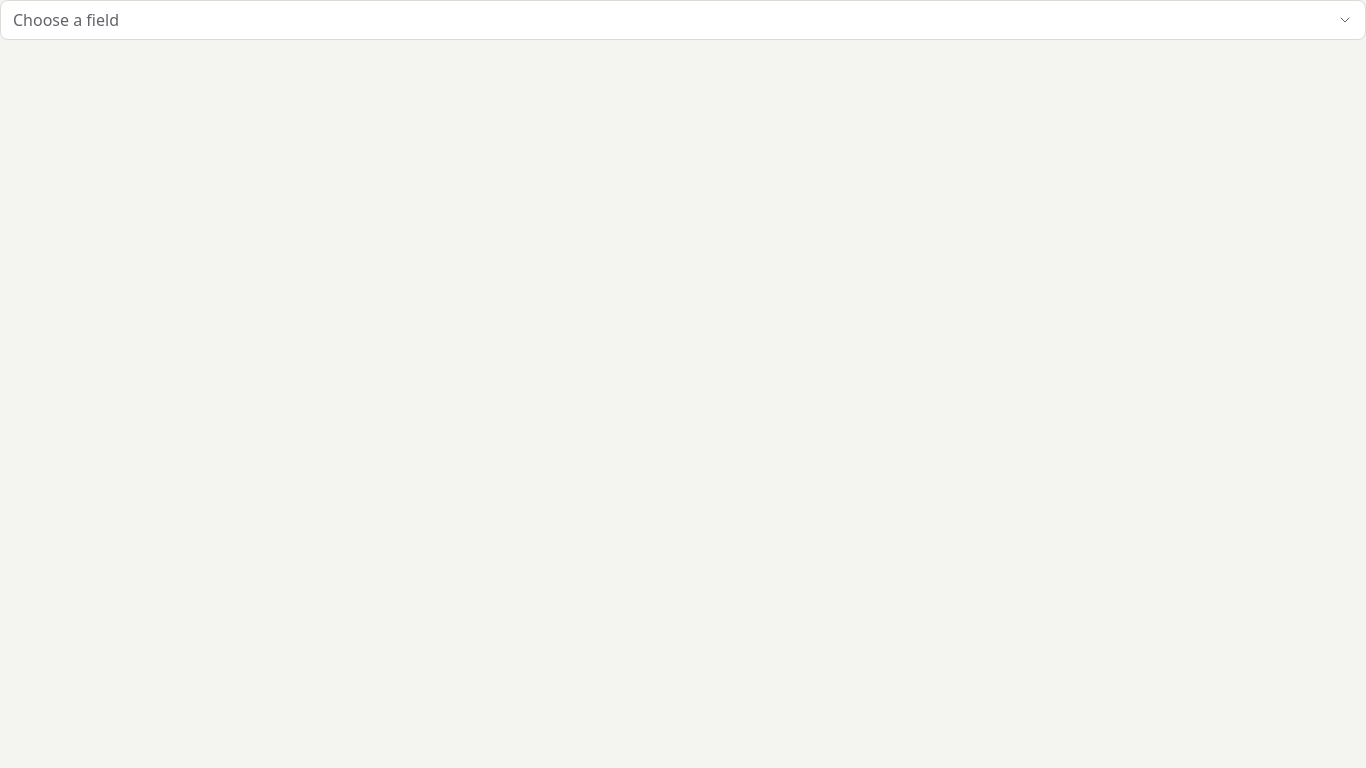
it: FieldPicker › opens from the keyboard, filters as you type, and Enter picks the highlighted field
Step 1. Press Tab
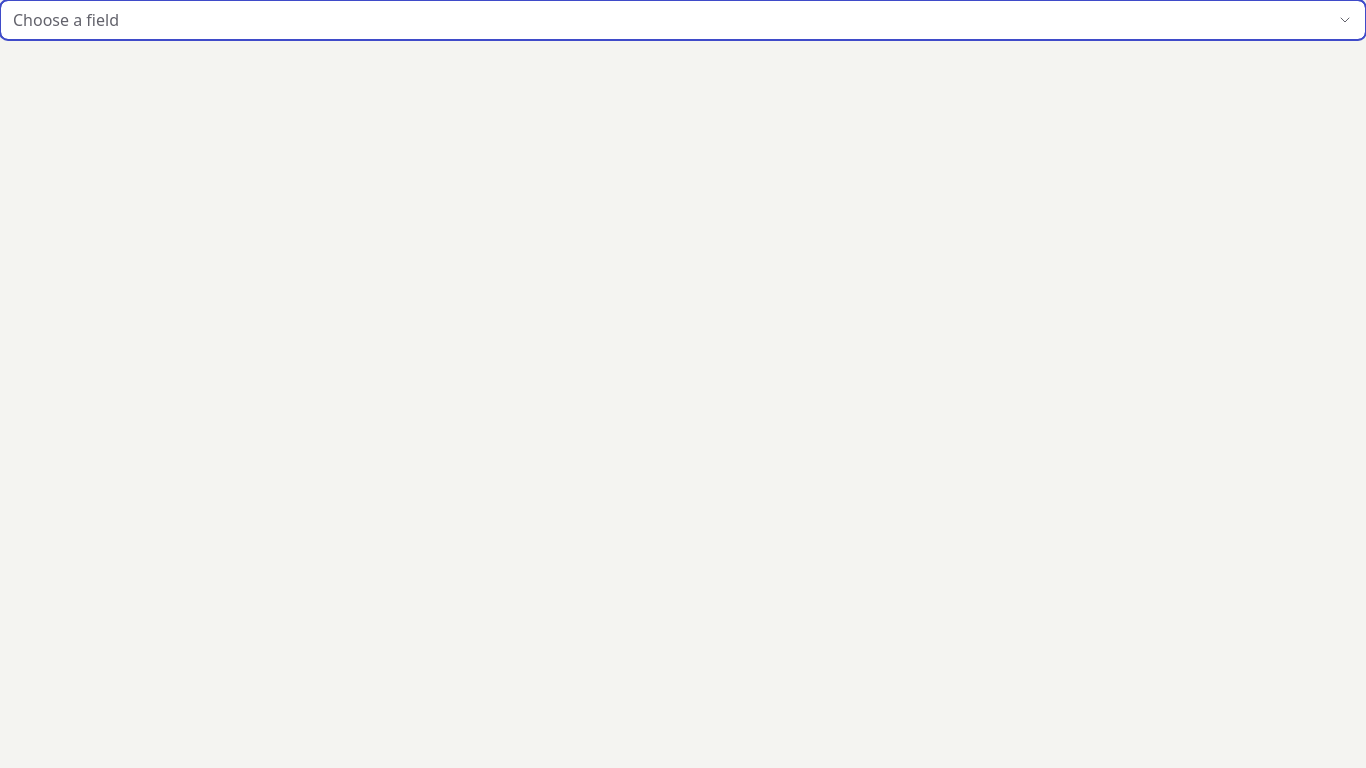
Step 2. Press Enter
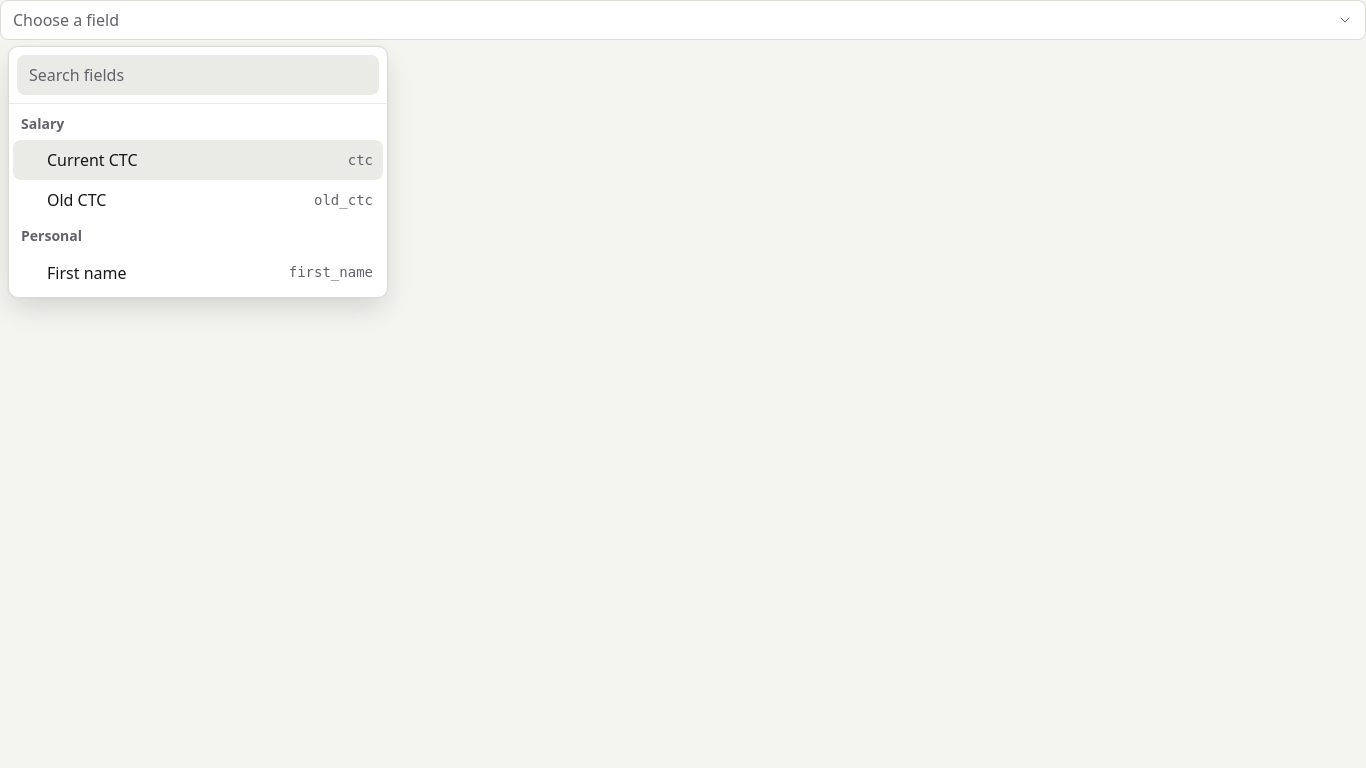
Step 3. Type "old" into the dropdown labelled "Search fields" → coordinates (198, 75), box top-left (17, 55), bottom-right (379, 95)
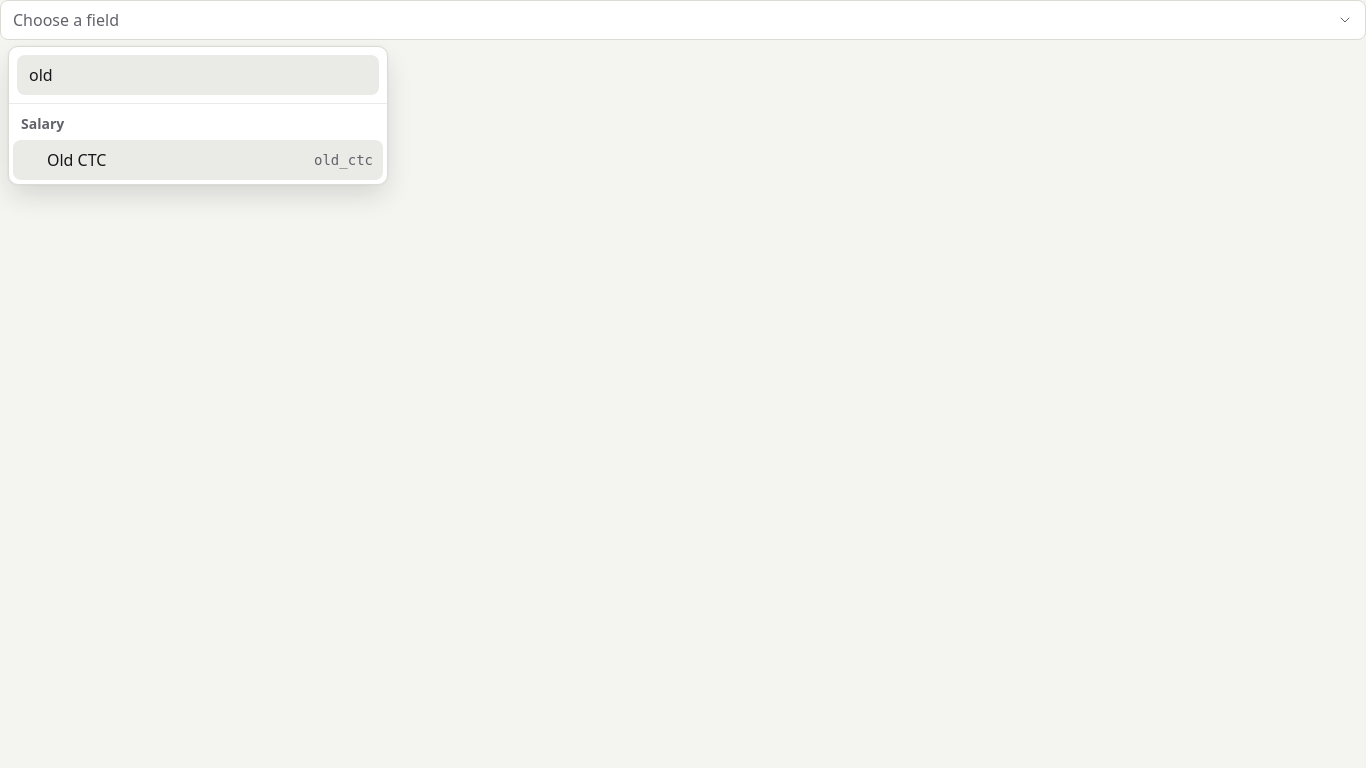
Expected: the option "First name" is gone
Step 4. Press Enter
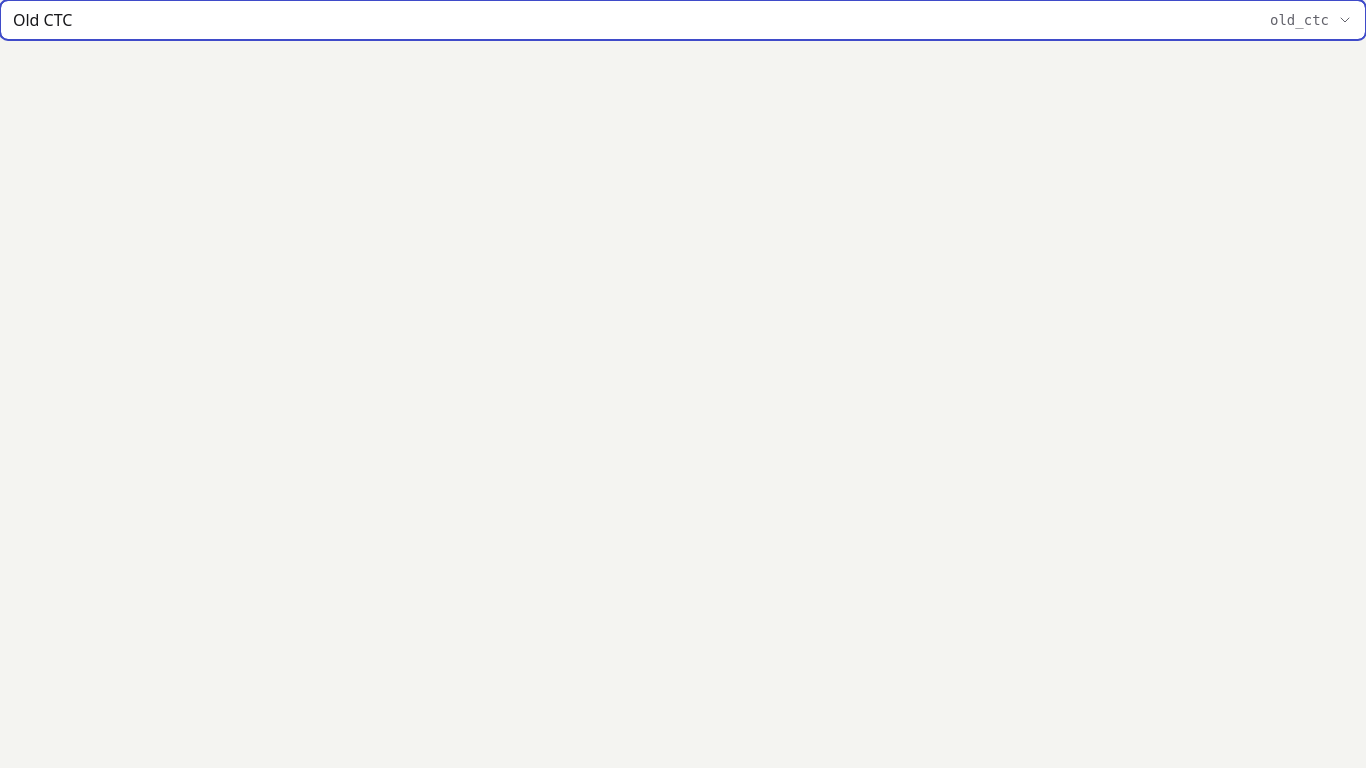
Expected: the list is gone
Expected: the dropdown named "Field" shows "Old CTC", top-left (0, 0), bottom-right (1365, 40)
